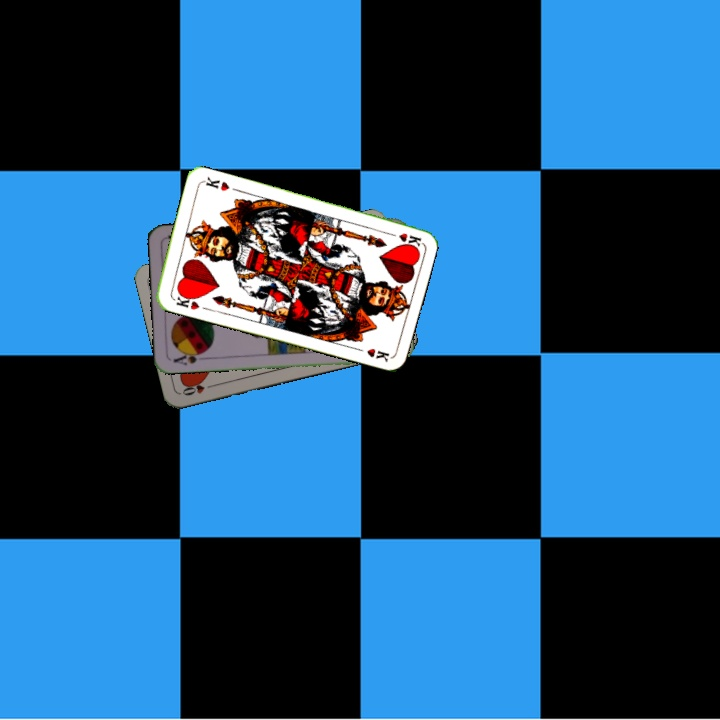HK: (382, 228, 423, 249), (172, 289, 202, 312)
HO: (178, 378, 218, 398)
SA: (169, 347, 209, 368)
